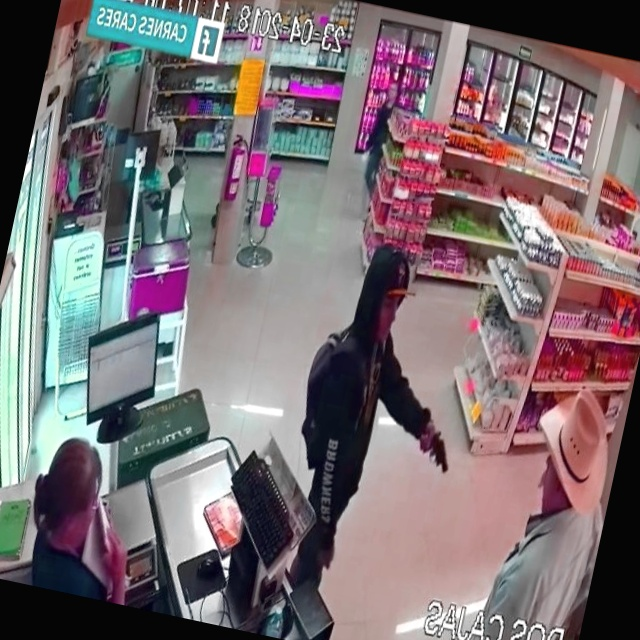gun: (413, 410, 462, 494)
